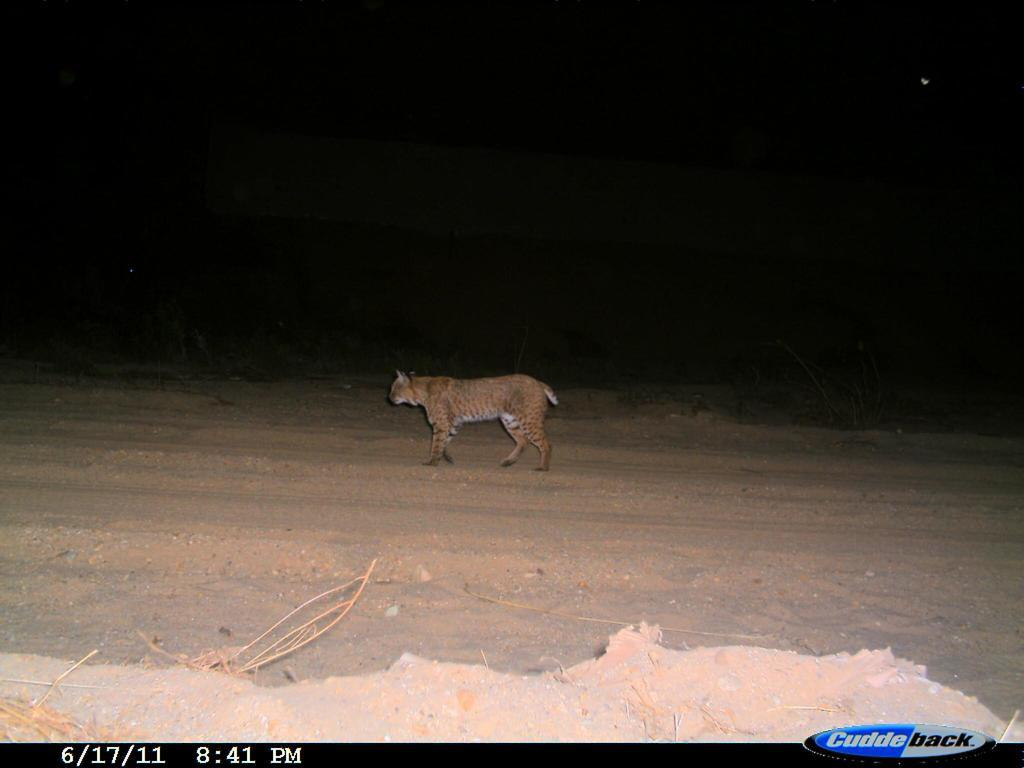bobcat: (381, 365, 568, 483)
